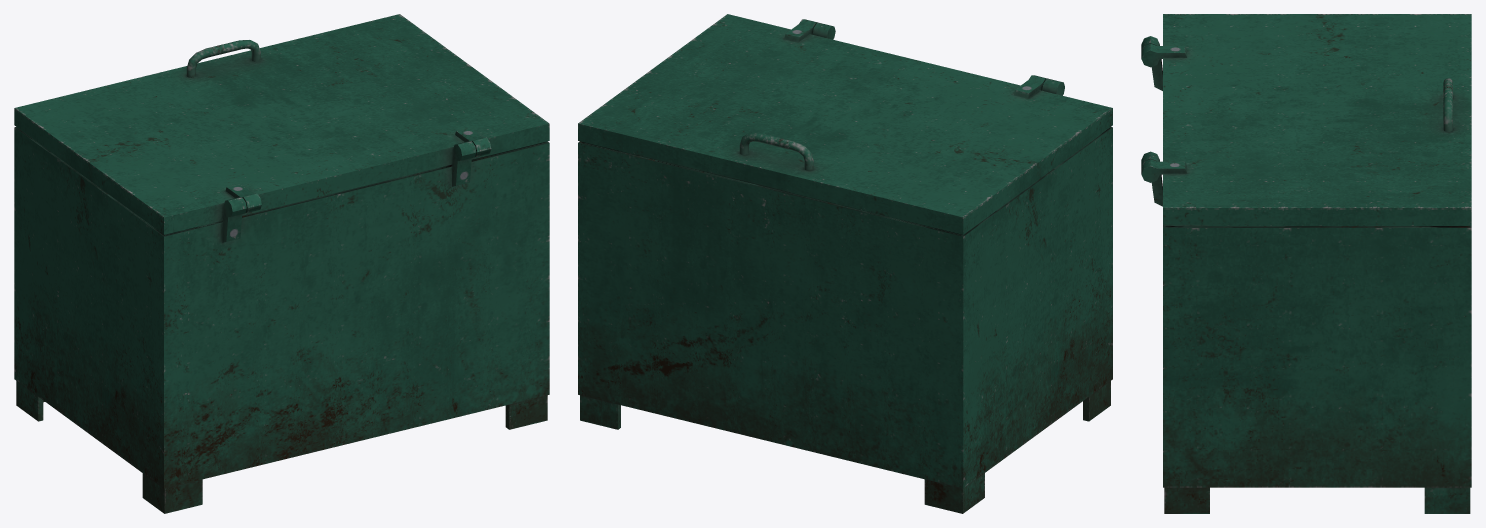
Rendered from Smallmetaliccase_AA.fbx.
3 views of the same model, side by side, from view 1: azimuth 30°, elevation 25°; view 2: azimuth 150°, elevation 25°; view 3: azimuth 270°, elevation 25° (orthographic). The views are drawn at different scales.
Parts seen in each view (by area): view 1: Smallmetaliccase_AA; view 2: Smallmetaliccase_AA; view 3: Smallmetaliccase_AA.
Part boxes in pixels (bbox=[...]): Smallmetaliccase_AA: bbox=[14, 14, 549, 513]; Smallmetaliccase_AA: bbox=[578, 14, 1112, 513]; Smallmetaliccase_AA: bbox=[1141, 14, 1471, 513].
Size of the model in its own units: 0.9293 by 0.6684 by 0.7385.
1 material, 1 textured.
